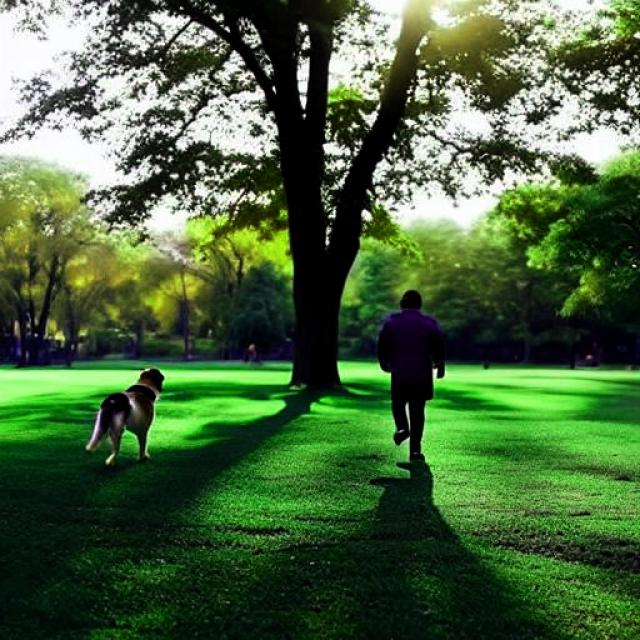Unleashed_Dog: (84, 368, 434, 464)
